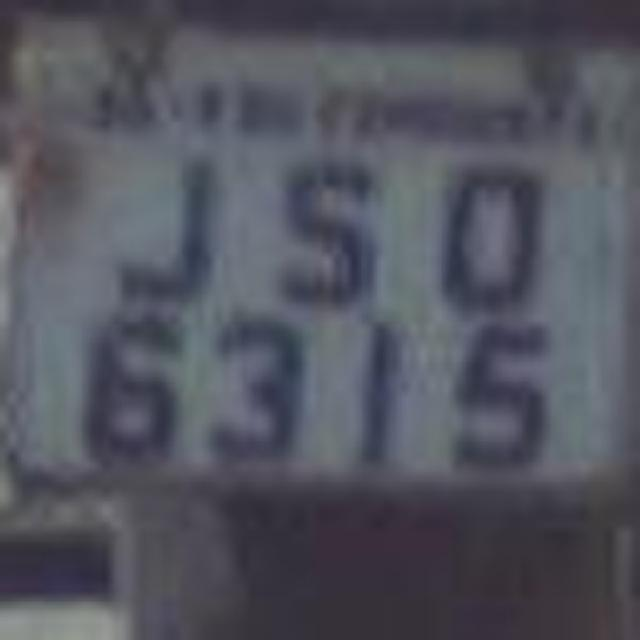1: (332, 312, 408, 456)
3: (184, 308, 328, 472)
5: (436, 309, 569, 456)
6: (68, 308, 200, 488)
J: (96, 156, 216, 316)
O: (424, 140, 551, 305)
S: (260, 152, 380, 308)
